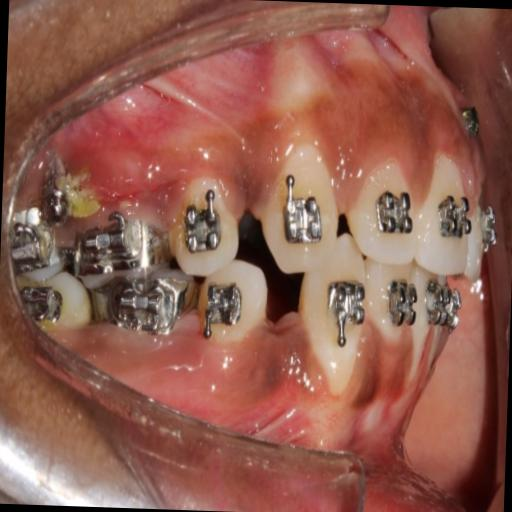correct_brace: (169, 172, 242, 282), (374, 182, 412, 242), (432, 188, 474, 242), (280, 200, 320, 245)
incorrect_brace: (350, 158, 419, 268), (184, 196, 224, 258)
